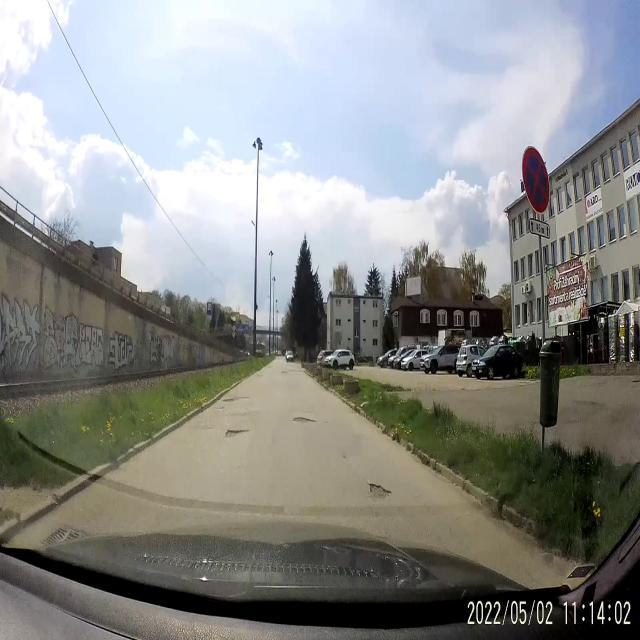Manhole: (40, 524, 92, 542)
Pothole: (222, 418, 254, 448), (366, 477, 394, 505), (290, 410, 320, 430), (221, 390, 249, 407)
